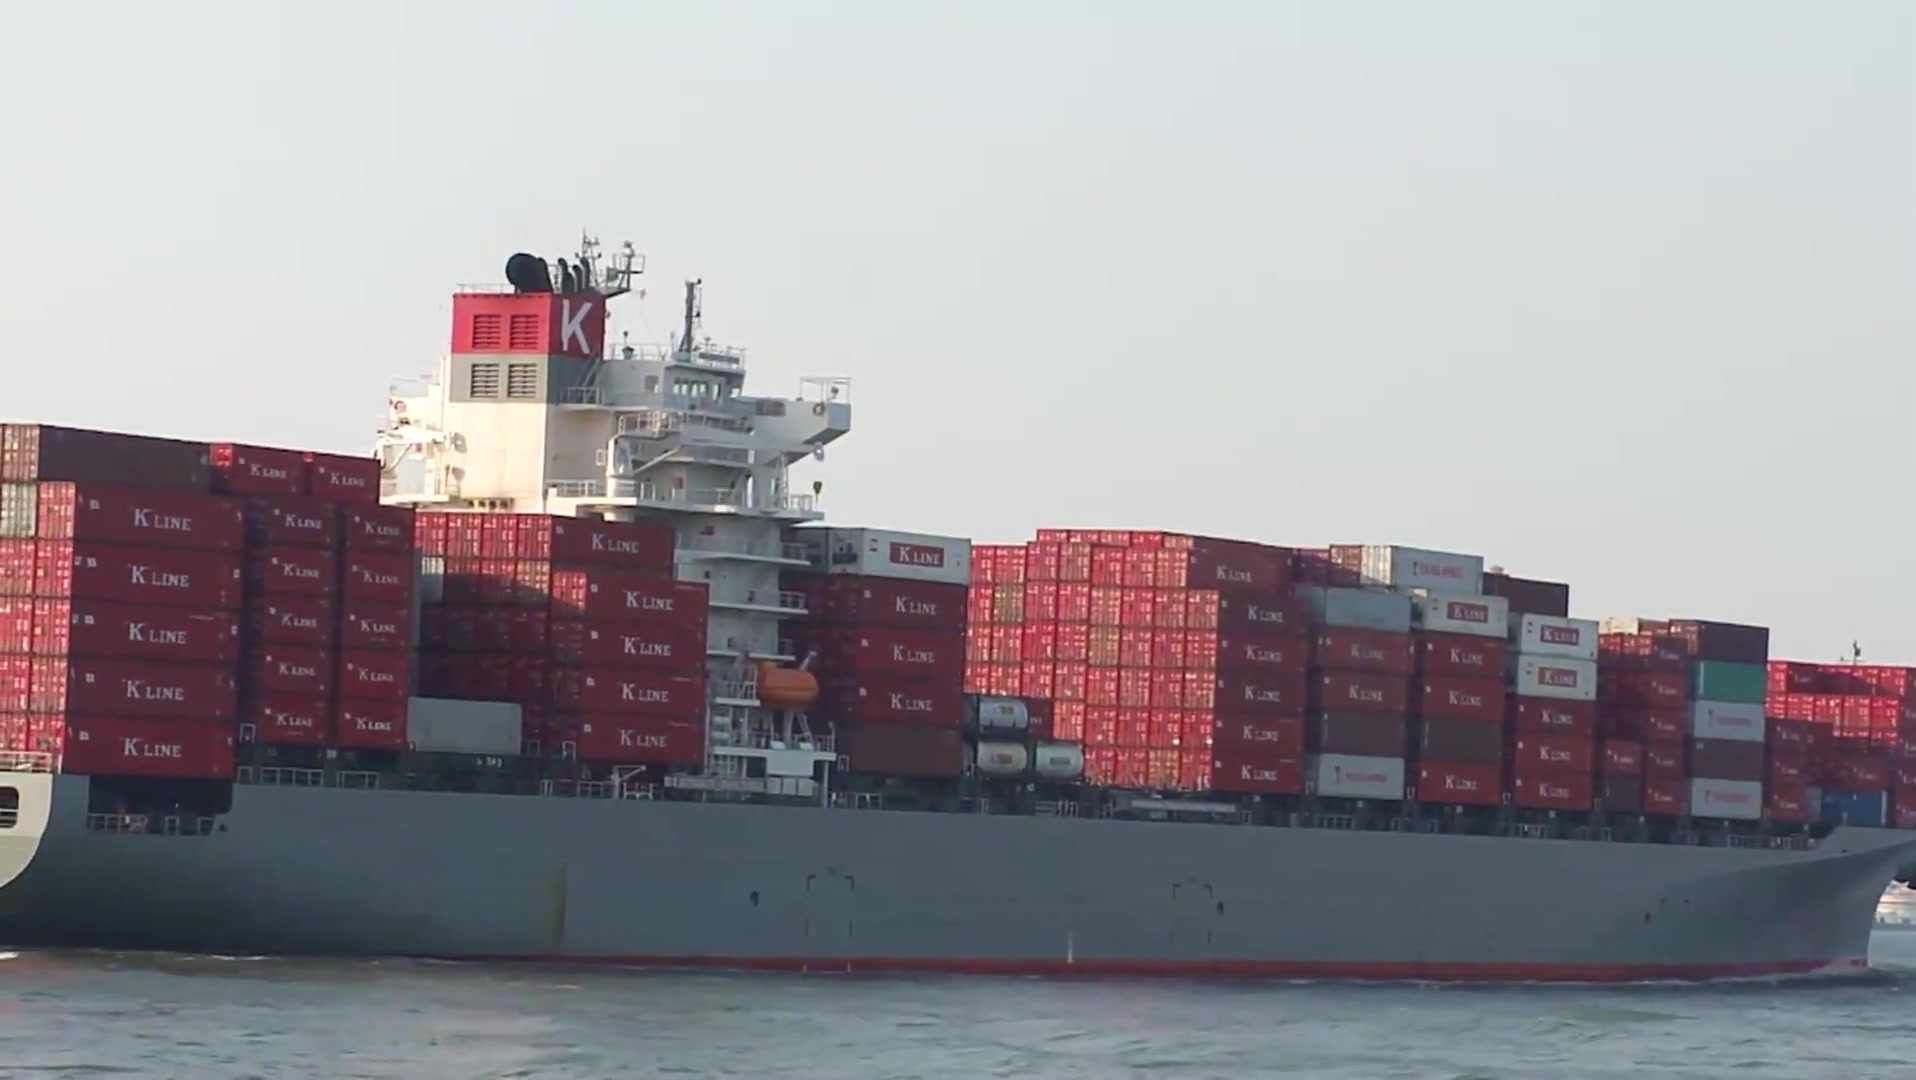boat: (1, 233, 1916, 984)
